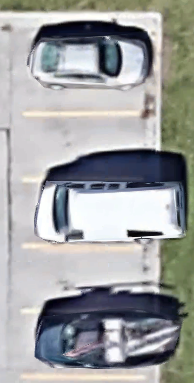Occupied: (23, 23, 152, 114), (20, 310, 154, 376), (22, 179, 152, 246)
Vacant: (20, 246, 153, 312), (22, 114, 152, 181)
